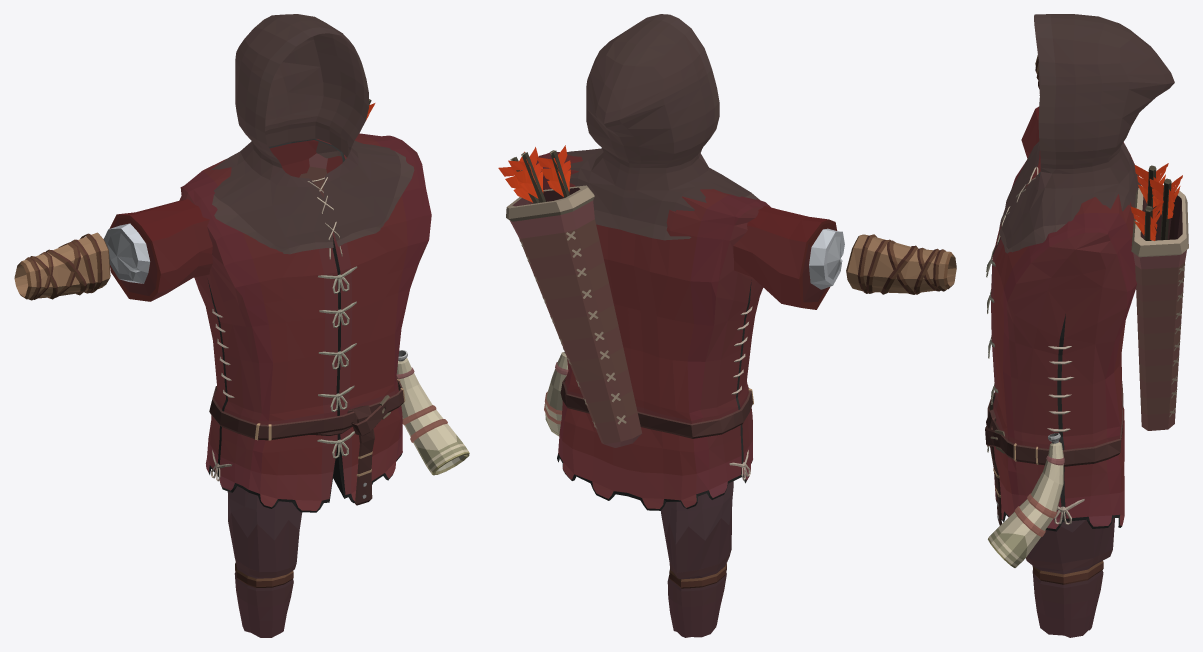
File: hunter.glb
The picture shows the model from 3 angles, left to right: view 1: azimuth 30°, elevation 25°; view 2: azimuth 150°, elevation 25°; view 3: azimuth 270°, elevation 25°; orthographic projection. The views are drawn at different scales.
Parts seen in each view (by area): view 1: hunterShirt, hunterHood, hunterShoulderCloth, hunterUpperArm, hunterUpperLeg, commonerColorfulBelt.001, hunterLowerArm, hunterHorn, hunterLowerLeg, hunterQuiver; view 2: hunterShirt, hunterQuiver, hunterHood, hunterUpperArm, hunterShoulderCloth, hunterLowerArm, hunterUpperLeg, hunterLowerLeg, commonerColorfulBelt.001, hunterHorn; view 3: hunterShirt, hunterHood, hunterQuiver, hunterShoulderCloth, hunterLowerLeg, hunterHorn, commonerColorfulBelt.001, hunterUpperLeg, hunterUpperArm.
Boxes of the visible parts, box(x1,y1,x2,y2) form: hunterShirt: box(179, 133, 431, 512); hunterHood: box(235, 14, 368, 167); hunterShoulderCloth: box(210, 138, 414, 254); hunterUpperArm: box(104, 199, 212, 301); hunterUpperLeg: box(227, 486, 302, 572); commonerColorfulBelt.001: box(209, 376, 405, 505); hunterLowerArm: box(14, 232, 110, 300); hunterHorn: box(396, 350, 469, 475); hunterLowerLeg: box(233, 552, 296, 637); hunterQuiver: box(299, 99, 375, 197); hunterShirt: box(536, 152, 770, 510); hunterQuiver: box(498, 145, 642, 447); hunterHood: box(586, 14, 719, 173); hunterUpperArm: box(733, 206, 844, 309); hunterShoulderCloth: box(567, 148, 759, 240); hunterLowerArm: box(846, 234, 956, 294); hunterUpperLeg: box(661, 481, 733, 572); hunterLowerLeg: box(667, 552, 730, 637); commonerColorfulBelt.001: box(560, 376, 753, 438); hunterHorn: box(544, 348, 568, 436); hunterShirt: box(986, 142, 1136, 531); hunterHood: box(1034, 14, 1174, 173); hunterQuiver: box(1130, 163, 1188, 430); hunterShoulderCloth: box(999, 141, 1141, 253); hunterLowerLeg: box(1026, 549, 1112, 637); hunterHorn: box(988, 433, 1064, 567); commonerColorfulBelt.001: box(985, 381, 1123, 525); hunterUpperLeg: box(1027, 518, 1114, 563); hunterUpperArm: box(1021, 106, 1039, 158).
Bounding box in the file's own units: 1.25 × 1.67 × 0.4877.
